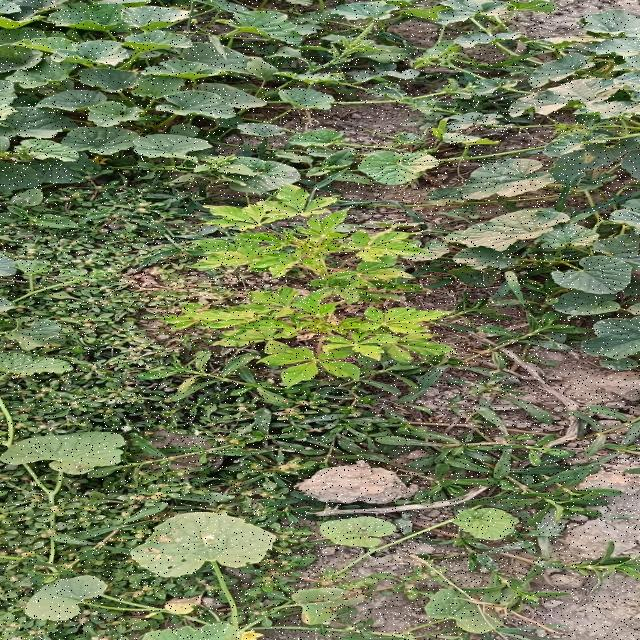plant: (163, 185, 455, 387)
